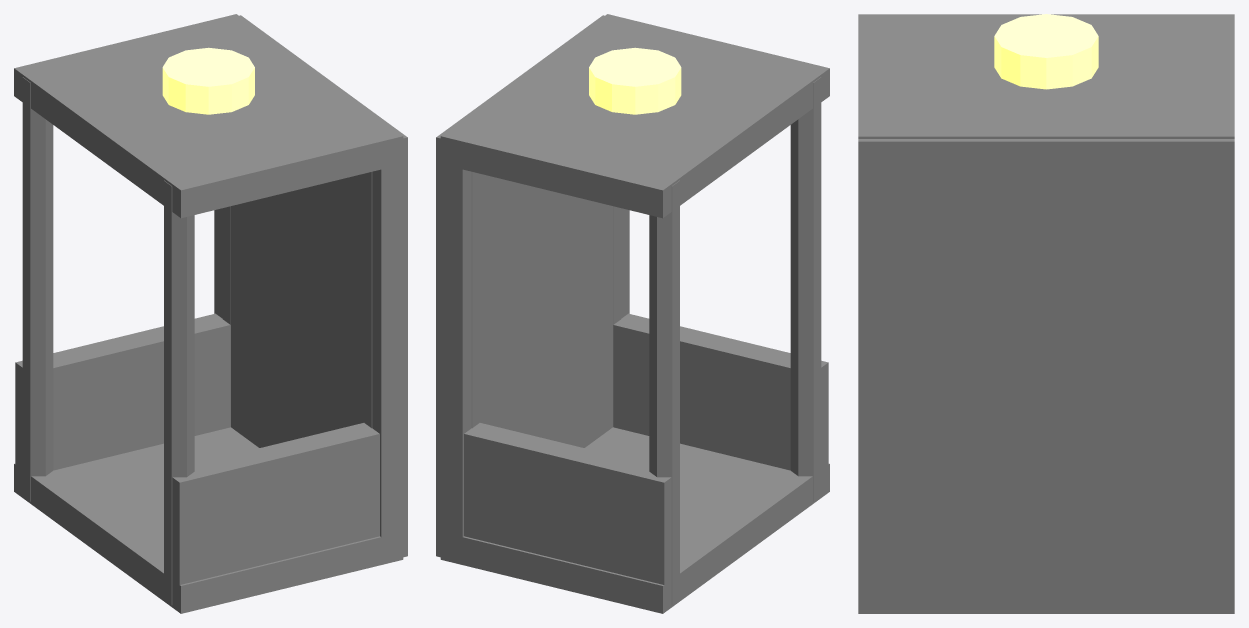
The model's file is elevator.glb.
3 renders of one model, left to right at view 1: azimuth 30°, elevation 25°; view 2: azimuth 150°, elevation 25°; view 3: azimuth 270°, elevation 25°, orthographic. The views are drawn at different scales.
Parts seen in each view (by area): view 1: elevator; view 2: elevator; view 3: elevator.
Boxes of the visible parts, <box> form: elevator: <box>14,14,407,613</box>; elevator: <box>436,14,829,613</box>; elevator: <box>858,14,1234,613</box>.
Bounding box in the file's own units: 0.511 × 0.985 × 0.65.
